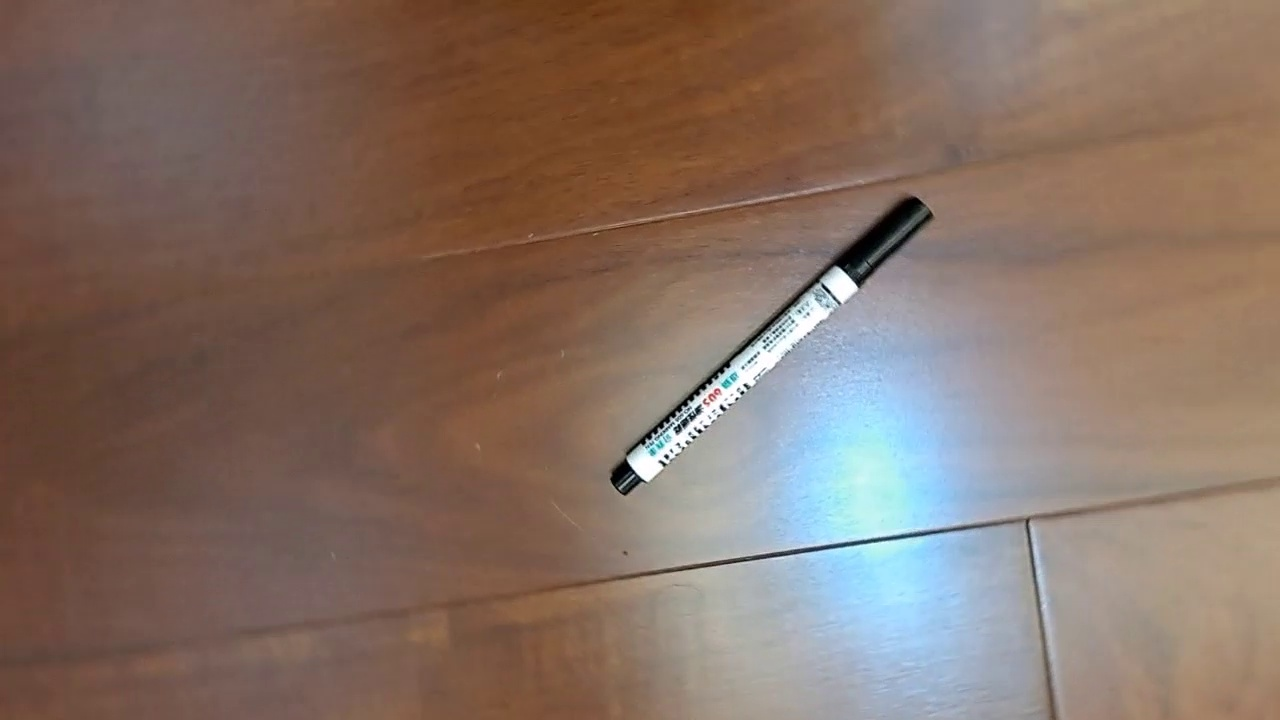pen: (609, 194, 936, 497)
